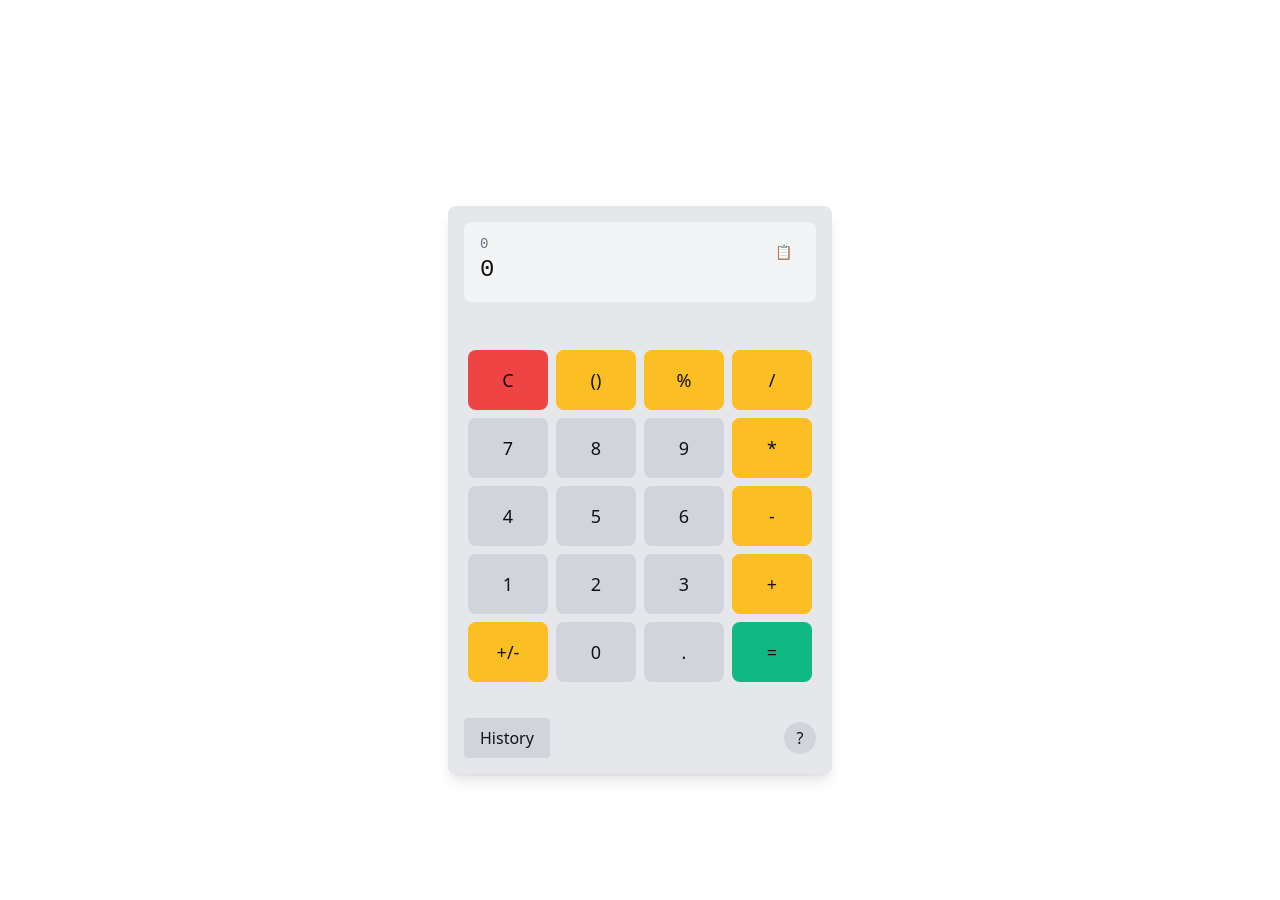
Test case: Calculator integration with testIds › records history, opens panel, selects an entry and closes
What coordinates should you click on to do the following:
click the button with test id "key-3"
I would click on:
 (684, 584)
Its box is x1=644 y1=554 x2=724 y2=614.
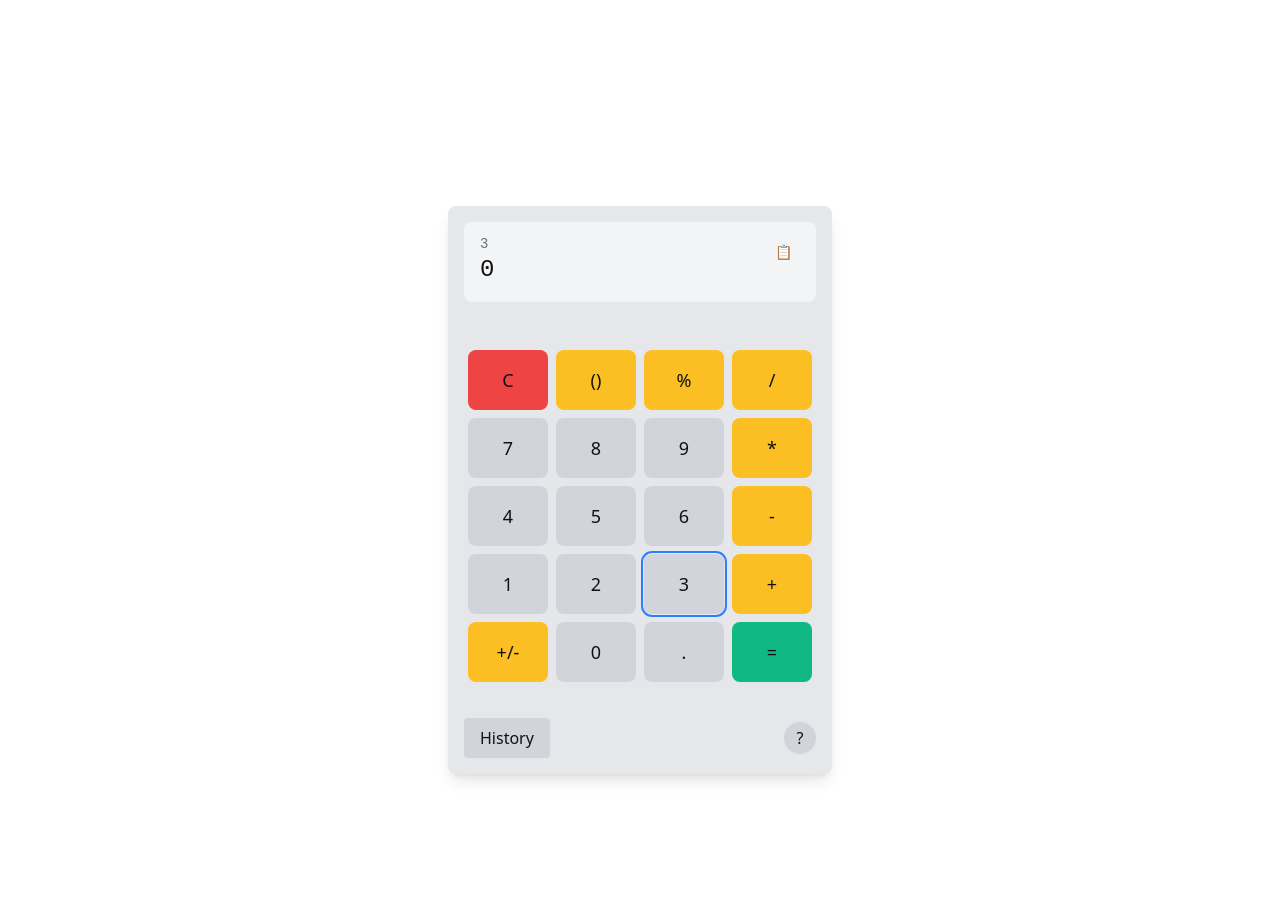
What coordinates should you click on to do the following:
click the button with test id "key-*"
I would click on:
 (772, 448)
Its box is x1=732 y1=418 x2=812 y2=478.
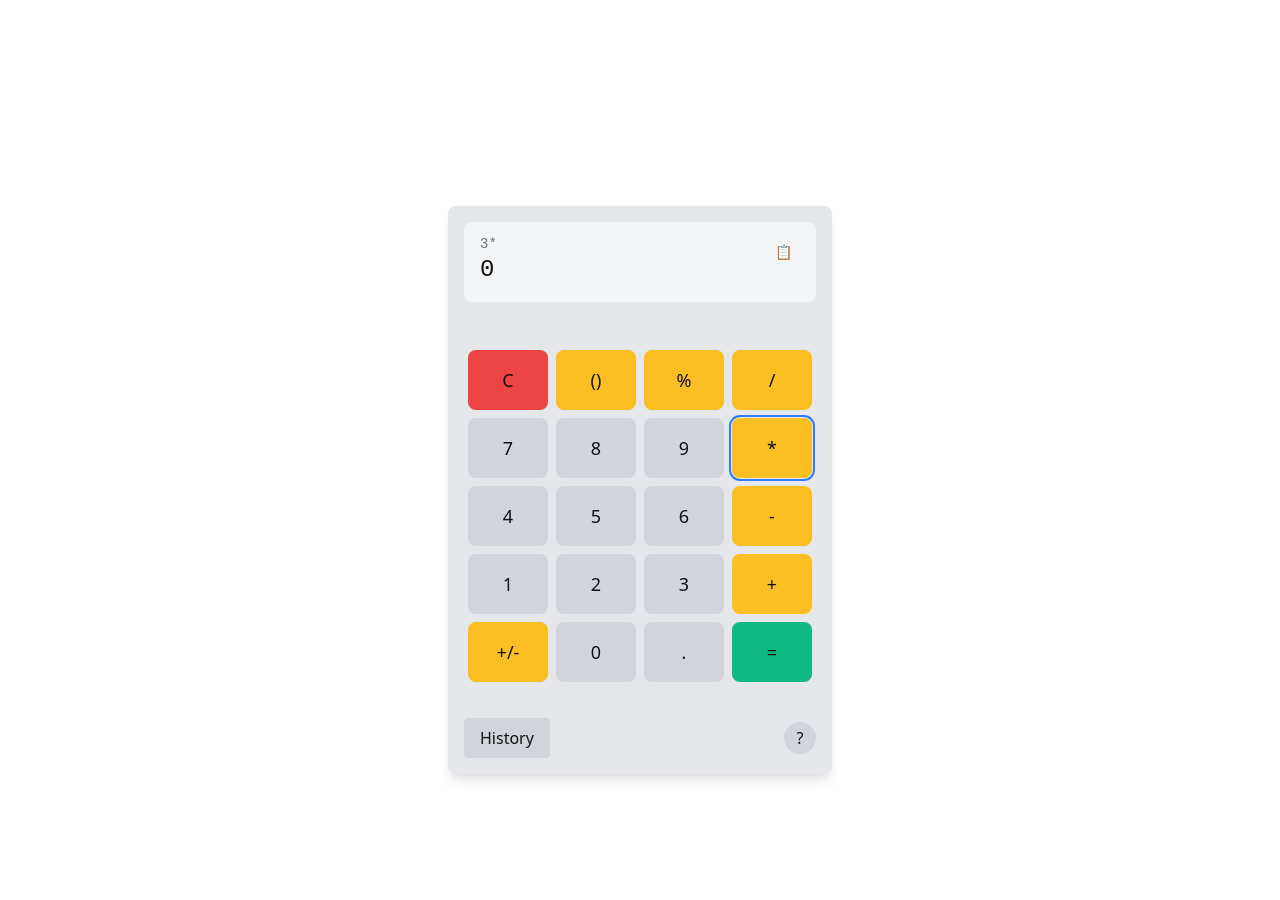
What coordinates should you click on to do the following:
click the button with test id "key-3"
I would click on:
 (684, 584)
Its box is x1=644 y1=554 x2=724 y2=614.
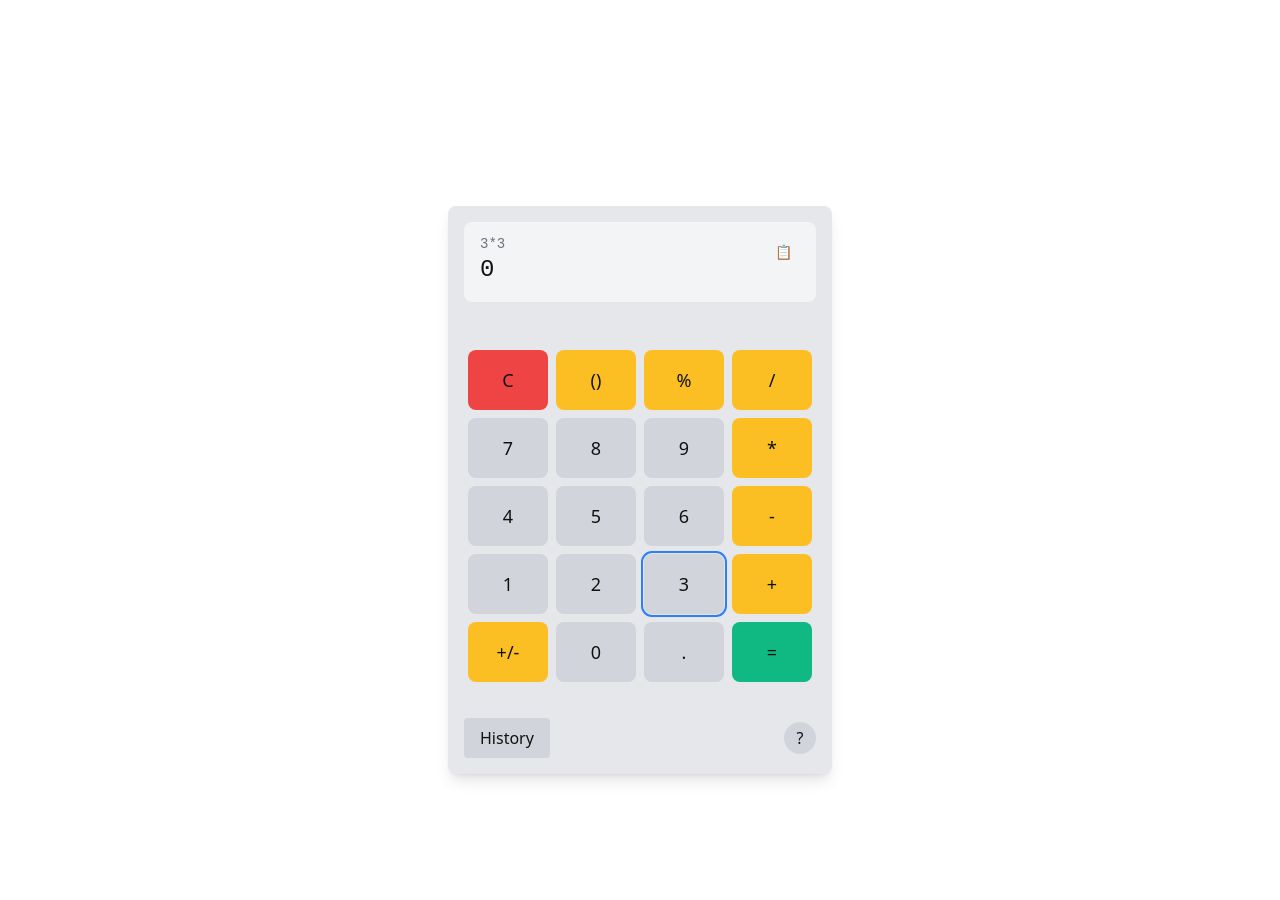
What coordinates should you click on to do the following:
click the button with test id "key-="
I would click on:
 (772, 652)
Its box is x1=732 y1=622 x2=812 y2=682.
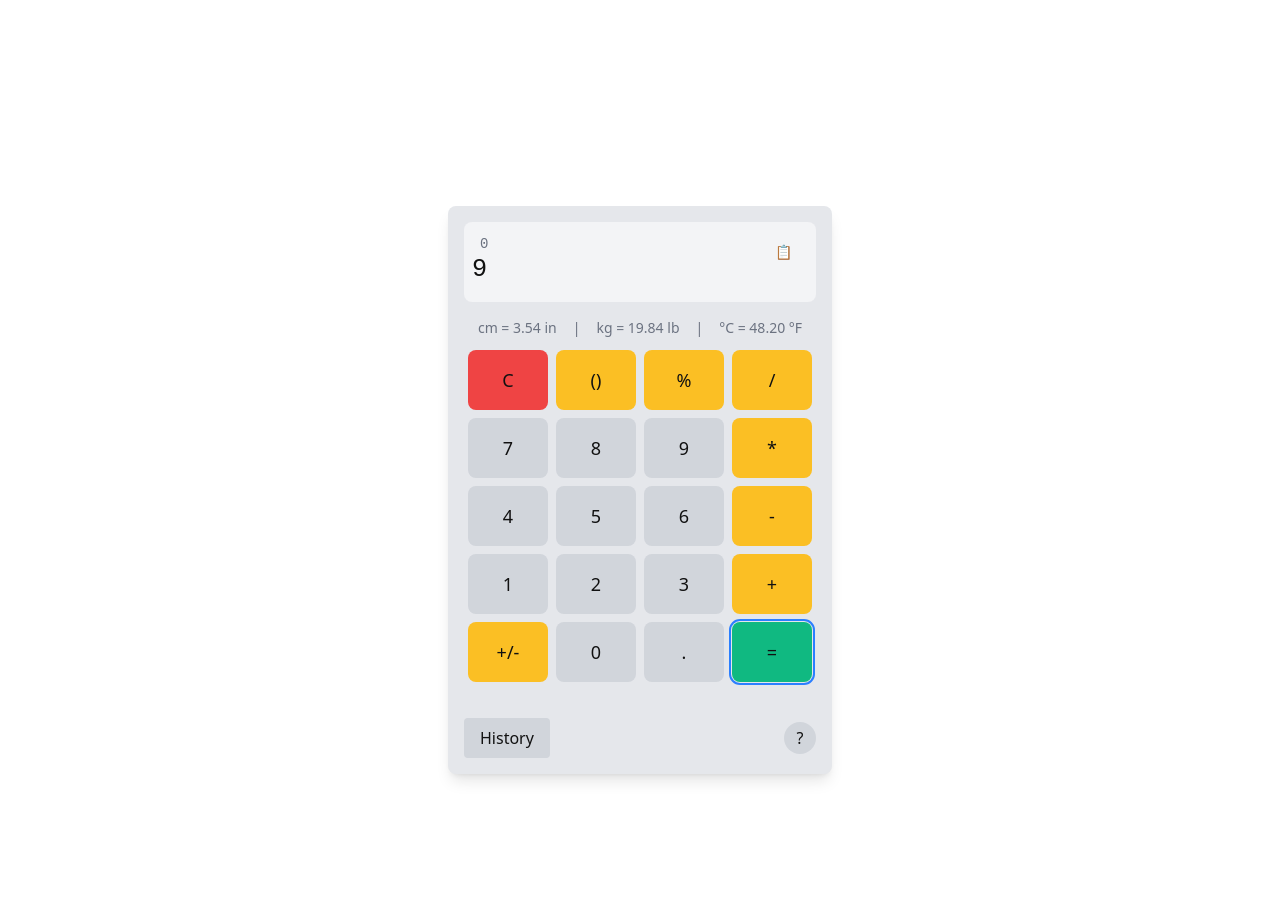
Result: the text with test id "result" reads "9" at x1=472 y1=255 x2=487 y2=284
# Open history
What coordinates should you click on to do the following:
click the button "History"
I would click on:
 (507, 738)
Its box is x1=464 y1=718 x2=550 y2=758.
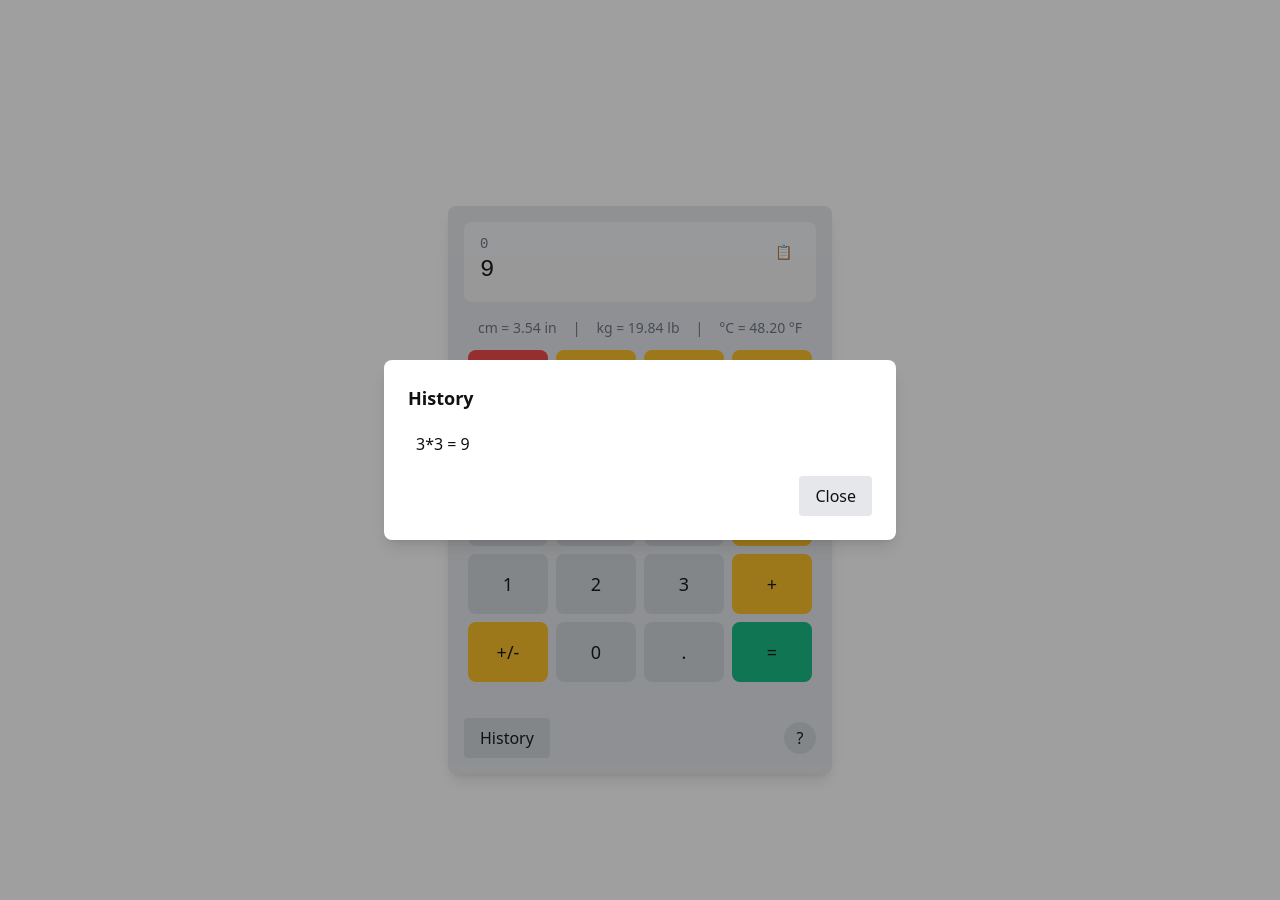
Result: the button with test id "history-0" reads "3*3 = 9"
# Select it
What coordinates should you click on to do the following:
click the button with test id "history-0"
I would click on:
 (430, 444)
Its box is x1=408 y1=428 x2=872 y2=460.
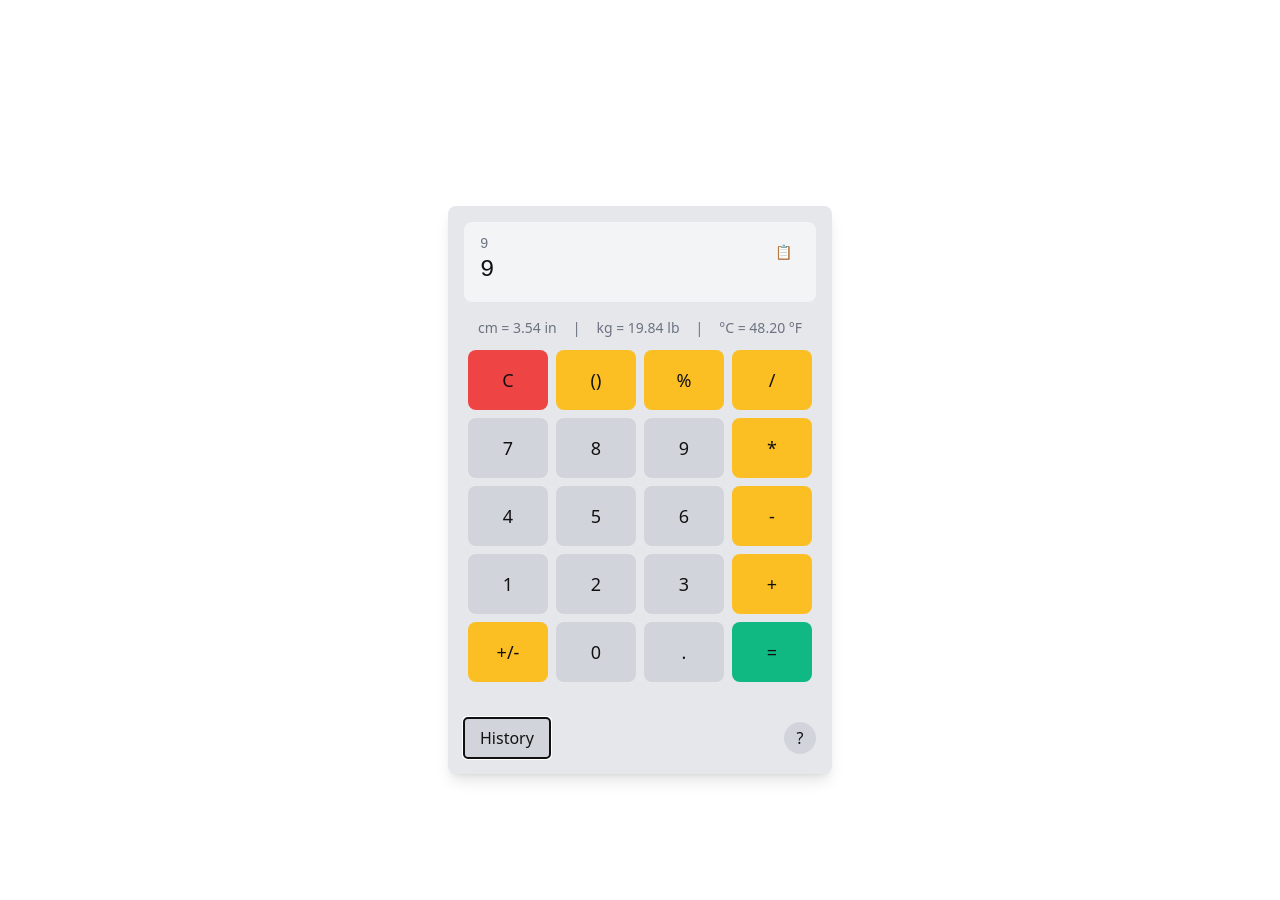
Result: the button with test id "history-0" is gone
Result: the text with test id "expression" reads "9" at x1=480 y1=236 x2=488 y2=252
